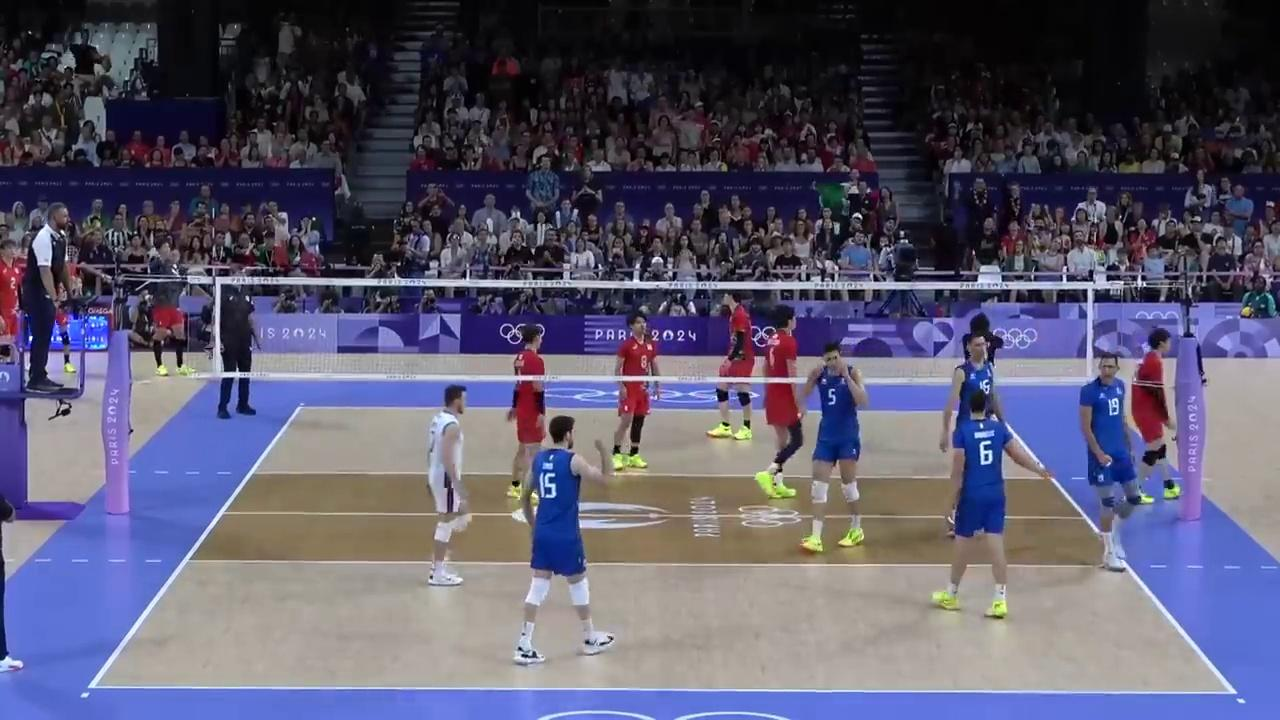ball: (1237, 306, 1252, 318)
